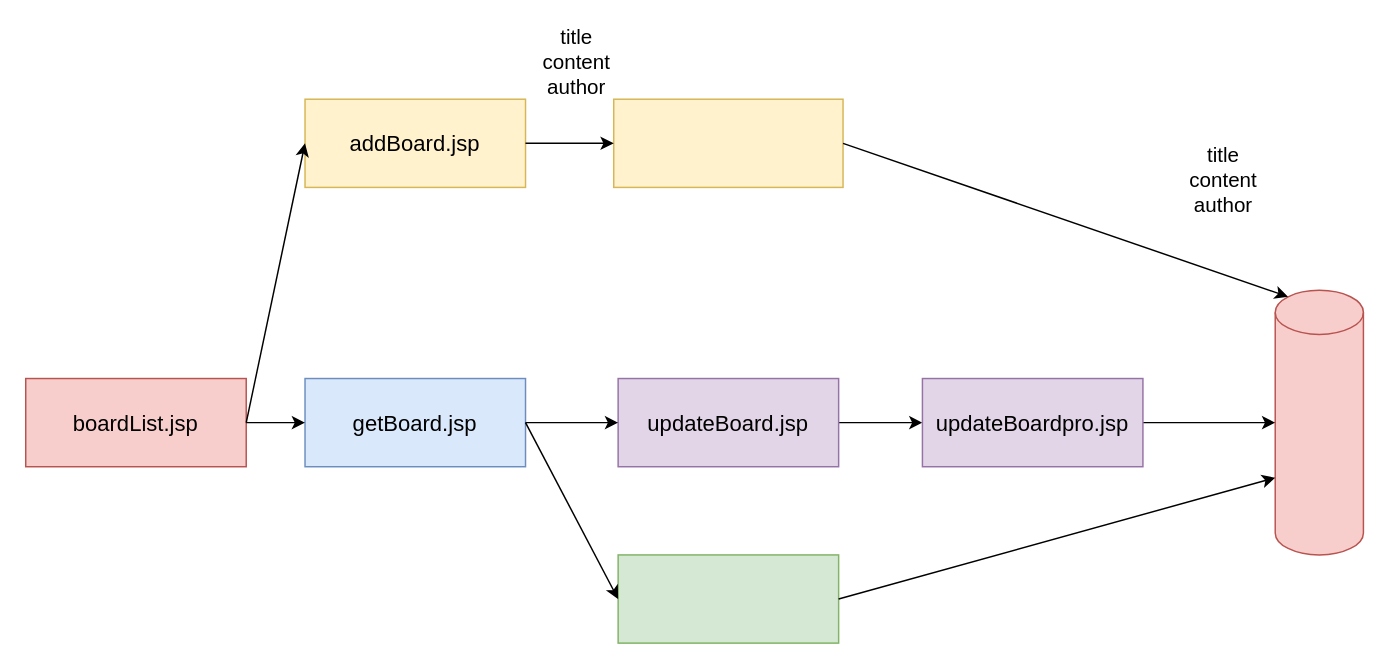
Some shapes in this 1389 by 669 pixel diagram are drawn without their labels. Each missing label, with the centre of its shape:
addBoardpro.jsp: the point at 727,142
Board: the point at 1318,422
deleteBoardpro.jsp: the point at 728,598
